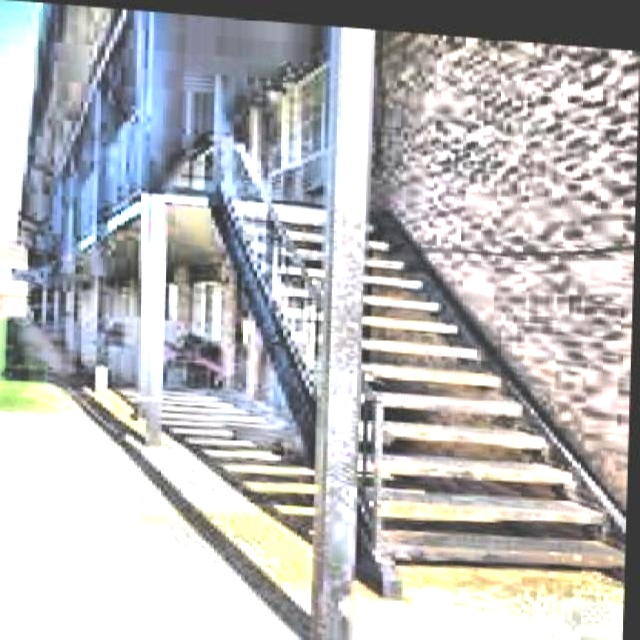stair: (209, 192, 632, 563)
